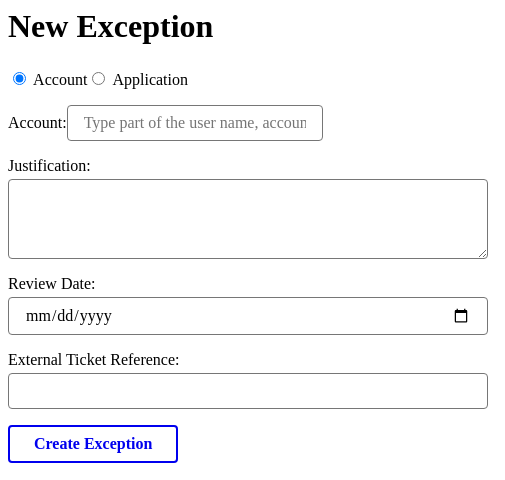
Scenario: RiskExceptionEdit.vue › create › finds accounts by what is typed, and shows who and where each one is
This screenshot has width=505, height=480.
Type "payroll" into the dropdown with placeholder "Type part of the user name, account name or address".
click(195, 123); type("payroll")  # box left=67, top=105, right=323, bottom=141
Wait 300 ms
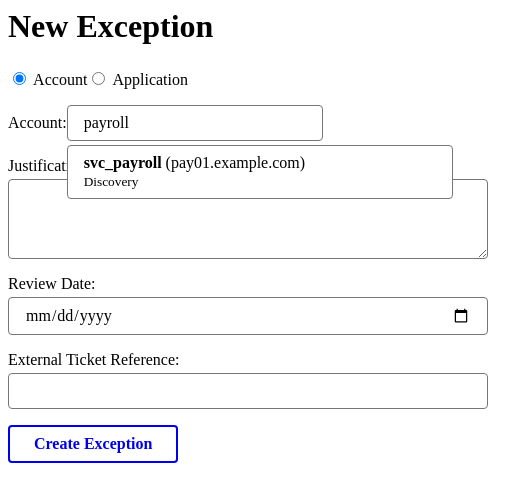
Check: the option "svc_payroll (pay01.example.com)Discovery" is shown, box left=84, top=154, right=305, bottom=189
